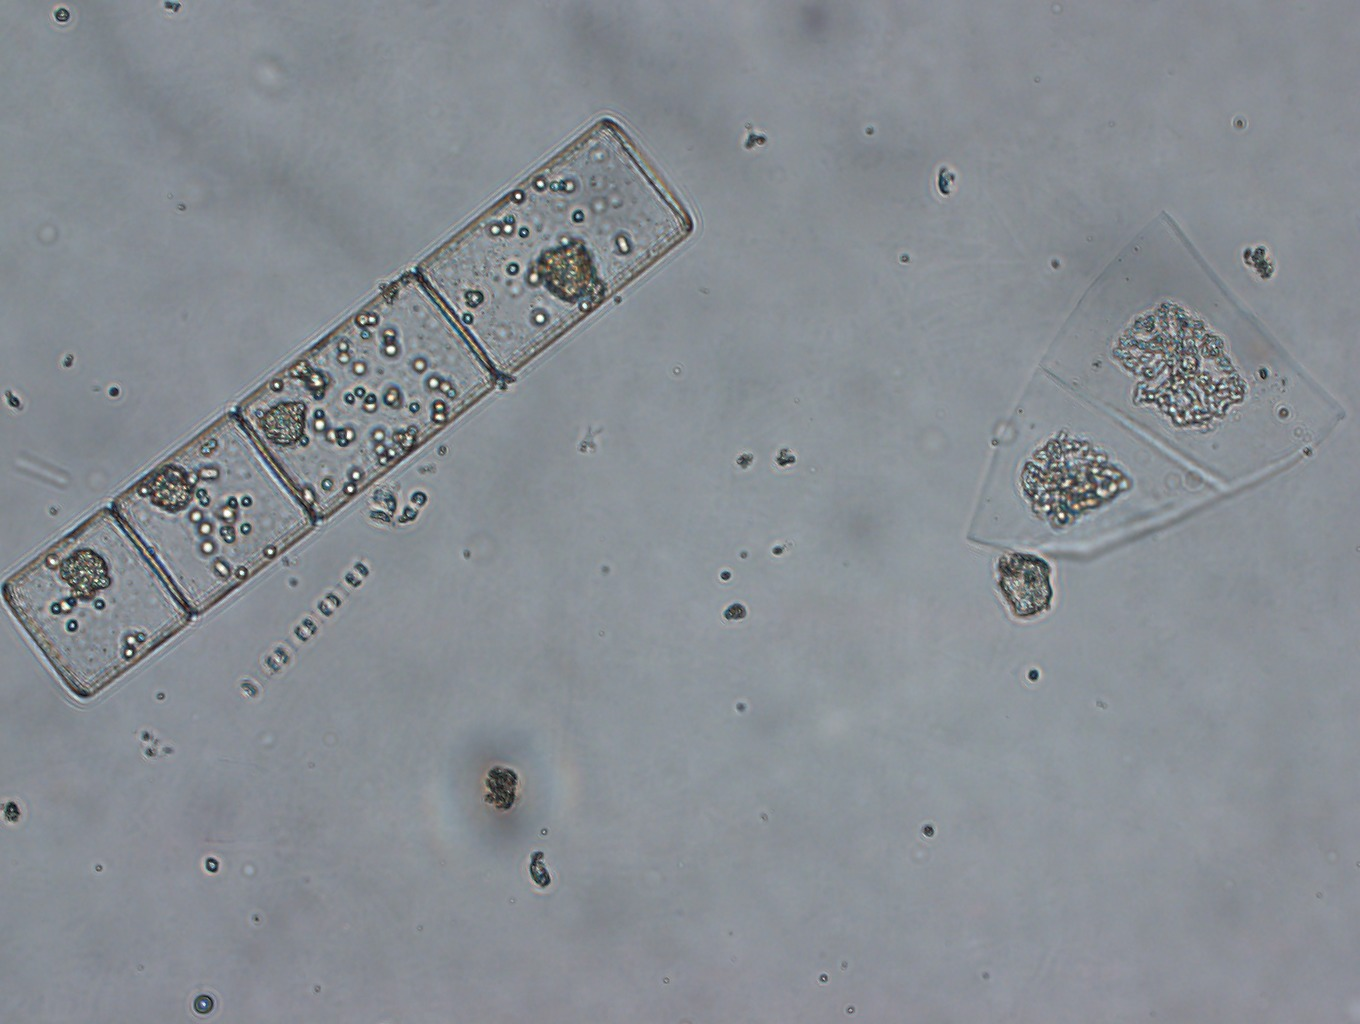guinardia flaccida: (1, 111, 705, 707)
helicotheca: (961, 203, 1351, 566)
